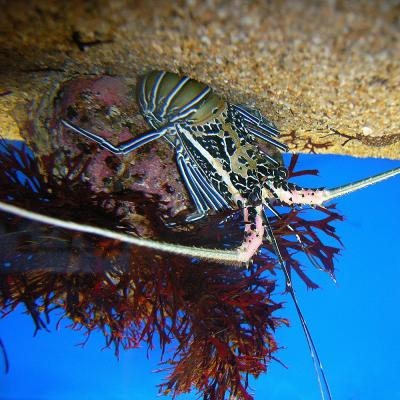lobster: (140, 65, 288, 212)
